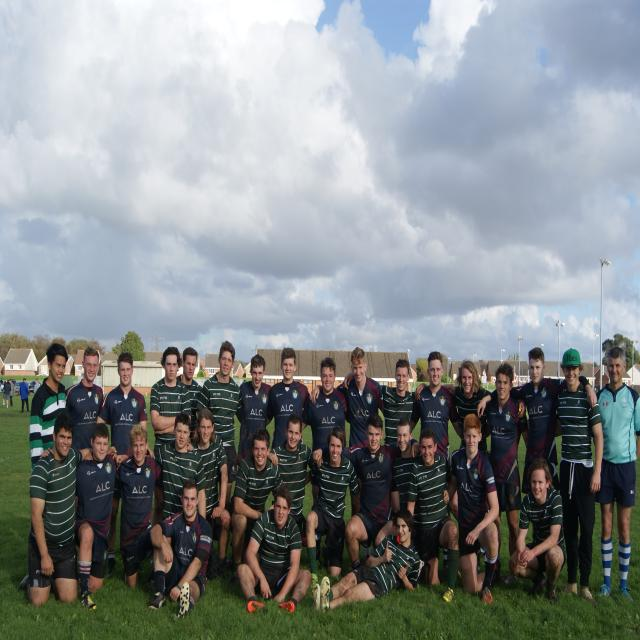body: (39, 423, 154, 611), (476, 347, 598, 496), (312, 414, 421, 572), (309, 346, 385, 566), (272, 356, 350, 568), (434, 412, 506, 606), (587, 344, 640, 606), (554, 347, 604, 607), (17, 414, 81, 606), (96, 351, 148, 581), (312, 508, 421, 612), (410, 350, 462, 568), (484, 360, 530, 590), (115, 412, 208, 524), (236, 484, 312, 616), (343, 358, 456, 446), (147, 477, 214, 625), (406, 427, 460, 604), (304, 426, 359, 593), (228, 426, 284, 588), (508, 456, 566, 609), (112, 422, 164, 590), (195, 340, 243, 508), (65, 346, 112, 516), (149, 346, 193, 526), (186, 408, 232, 574), (269, 413, 323, 535), (375, 418, 423, 548), (28, 341, 68, 475), (265, 347, 310, 449), (236, 353, 273, 467), (452, 358, 491, 456), (176, 346, 203, 441), (19, 378, 30, 413), (2, 379, 11, 409), (9, 378, 15, 407), (33, 377, 41, 395), (3, 378, 6, 394), (12, 377, 16, 386), (0, 378, 3, 384), (0, 381, 1, 387), (12, 378, 12, 381)
